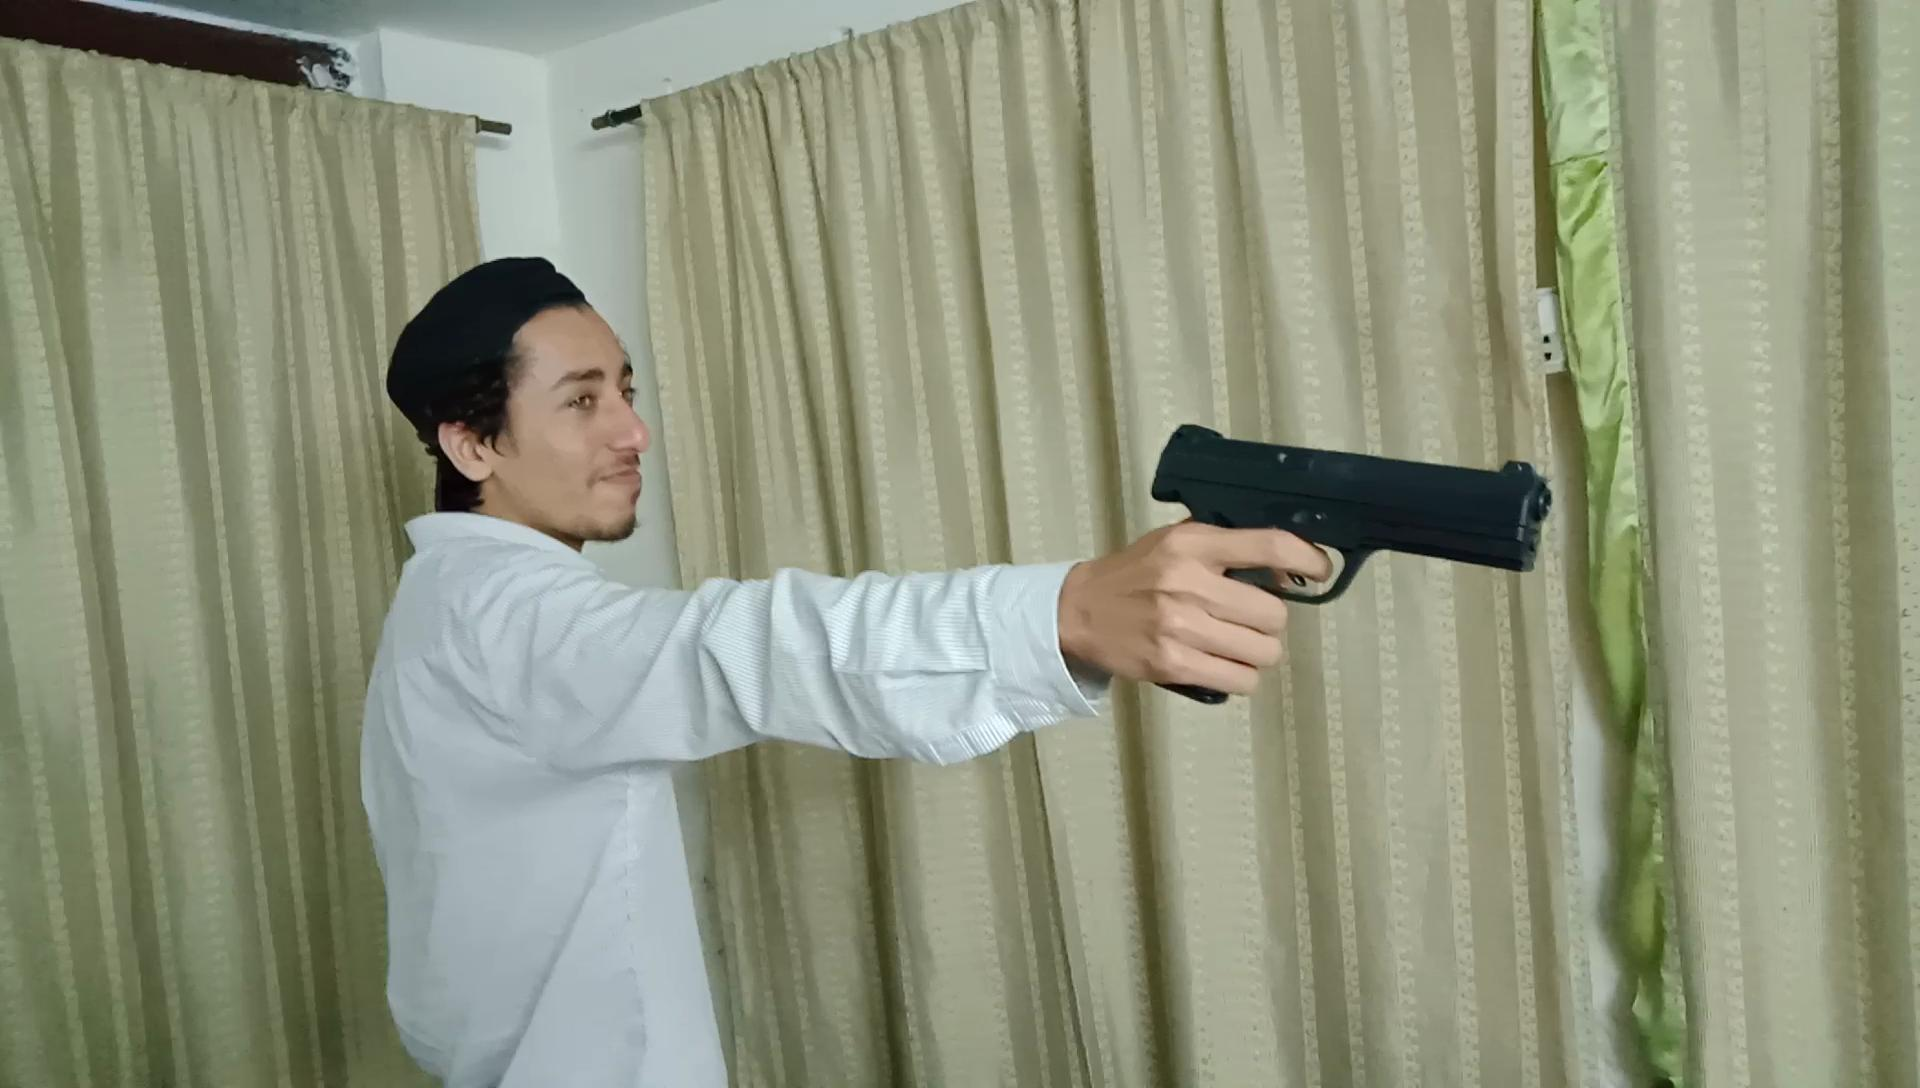criminal: (348, 243, 1567, 1088)
weapon: (1135, 406, 1561, 711)
